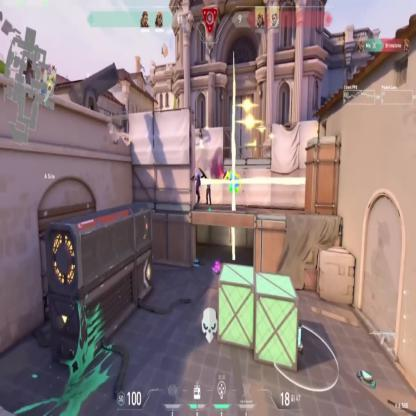enemy: (194, 170, 200, 206), (205, 177, 212, 205)
enemy_head: (194, 169, 198, 174), (208, 177, 210, 182)
